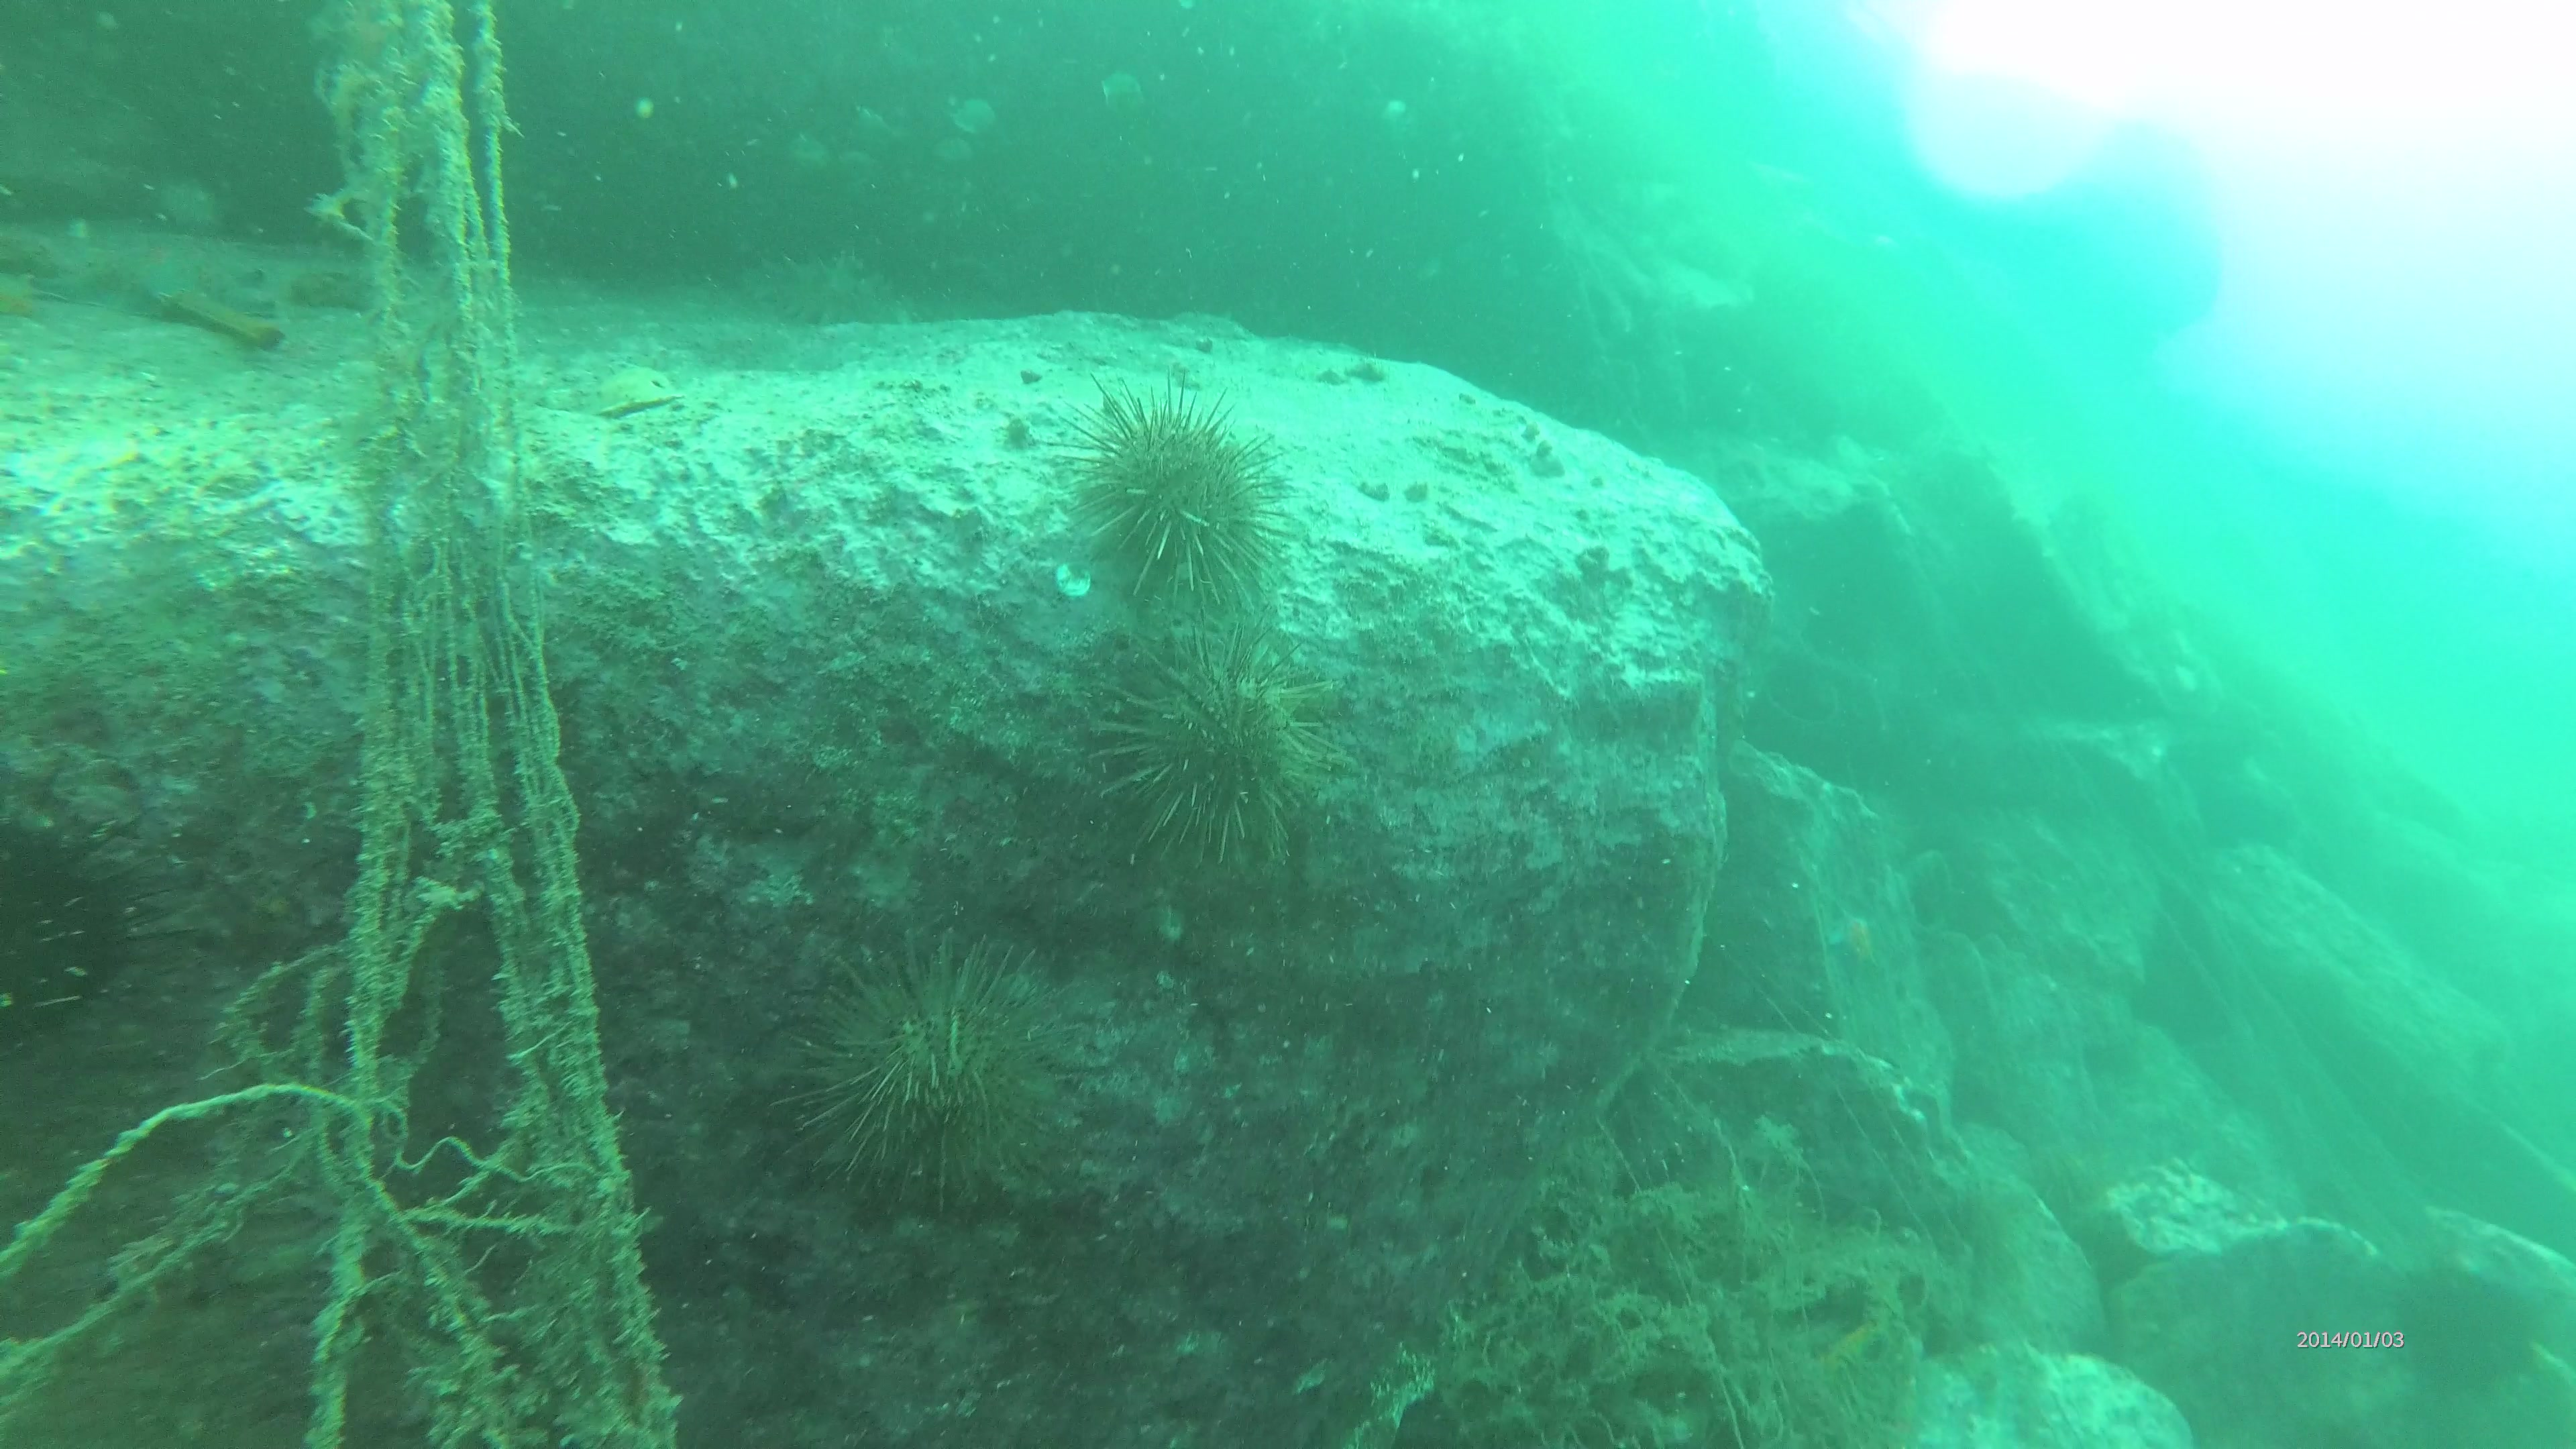echinus: (773, 927, 1058, 1219), (1077, 614, 1338, 879), (1053, 373, 1295, 623)
